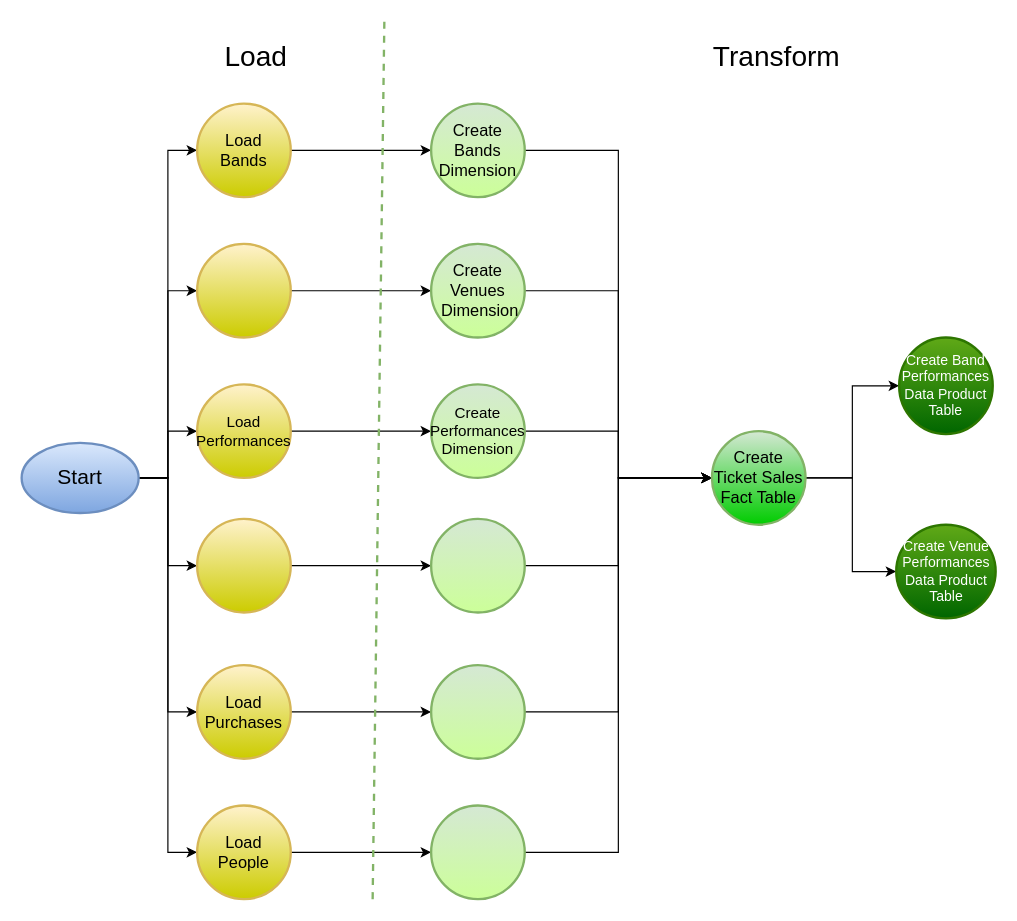
Some shapes in this 1017 by 921 pixel diagram are drawn without their labels. Here are the shapes that lost their labels. From the top down, the box of each, then its label:
(195, 242, 291, 338): Load Venues
(195, 517, 291, 613): Load Tickets
(429, 517, 525, 613): Create Tickets Dimension
(429, 663, 525, 759): Create Purchases Dimension
(429, 804, 525, 900): Create People Dimension
